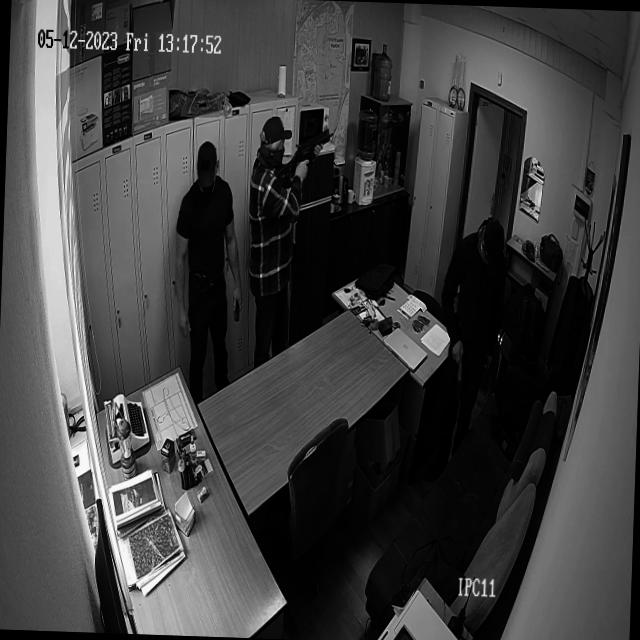gun: (274, 125, 334, 188)
person: (425, 213, 511, 487), (171, 140, 248, 408)
person with a gun: (242, 111, 334, 372)
